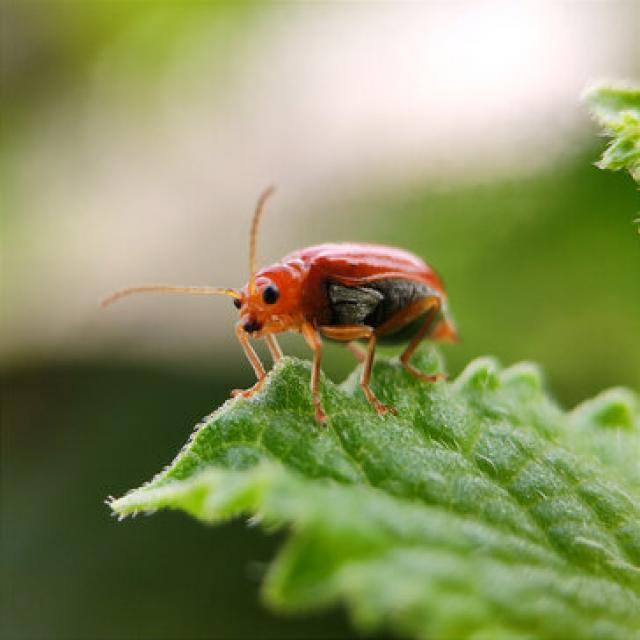Pumpkin Beetle: (91, 181, 470, 435)
